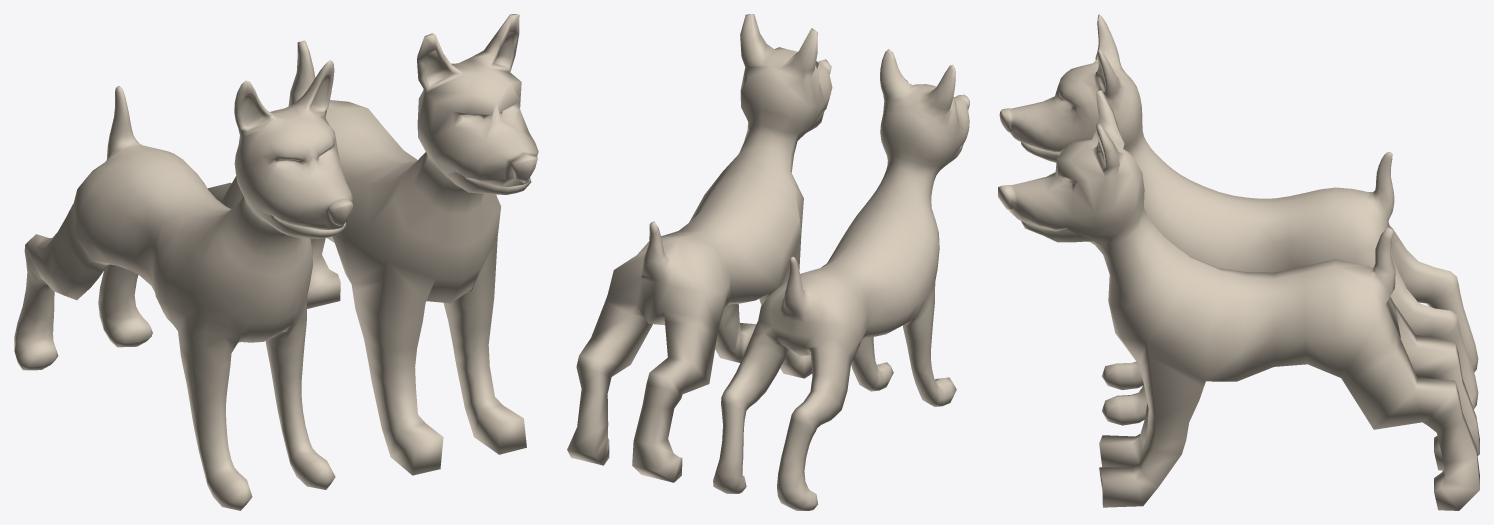
The model's file is doggy.fbx.
The picture shows the model from 3 angles, left to right: view 1: azimuth 30°, elevation 25°; view 2: azimuth 150°, elevation 25°; view 3: azimuth 270°, elevation 25°; orthographic projection. The views are drawn at different scales.
Visible parts, largest first — view 1: doggyHi, doggyLow; view 2: doggyLow, doggyHi; view 3: doggyLow, doggyHi.
Part boxes in pixels (bbox=[...]): doggyHi: bbox=[14, 60, 352, 510]; doggyLow: bbox=[207, 14, 538, 475]; doggyLow: bbox=[567, 14, 832, 482]; doggyHi: bbox=[713, 49, 969, 510]; doggyLow: bbox=[998, 89, 1479, 510]; doggyHi: bbox=[999, 14, 1478, 425].
Bounding box in the file's own units: 4.66 × 6.15 × 7.14.
